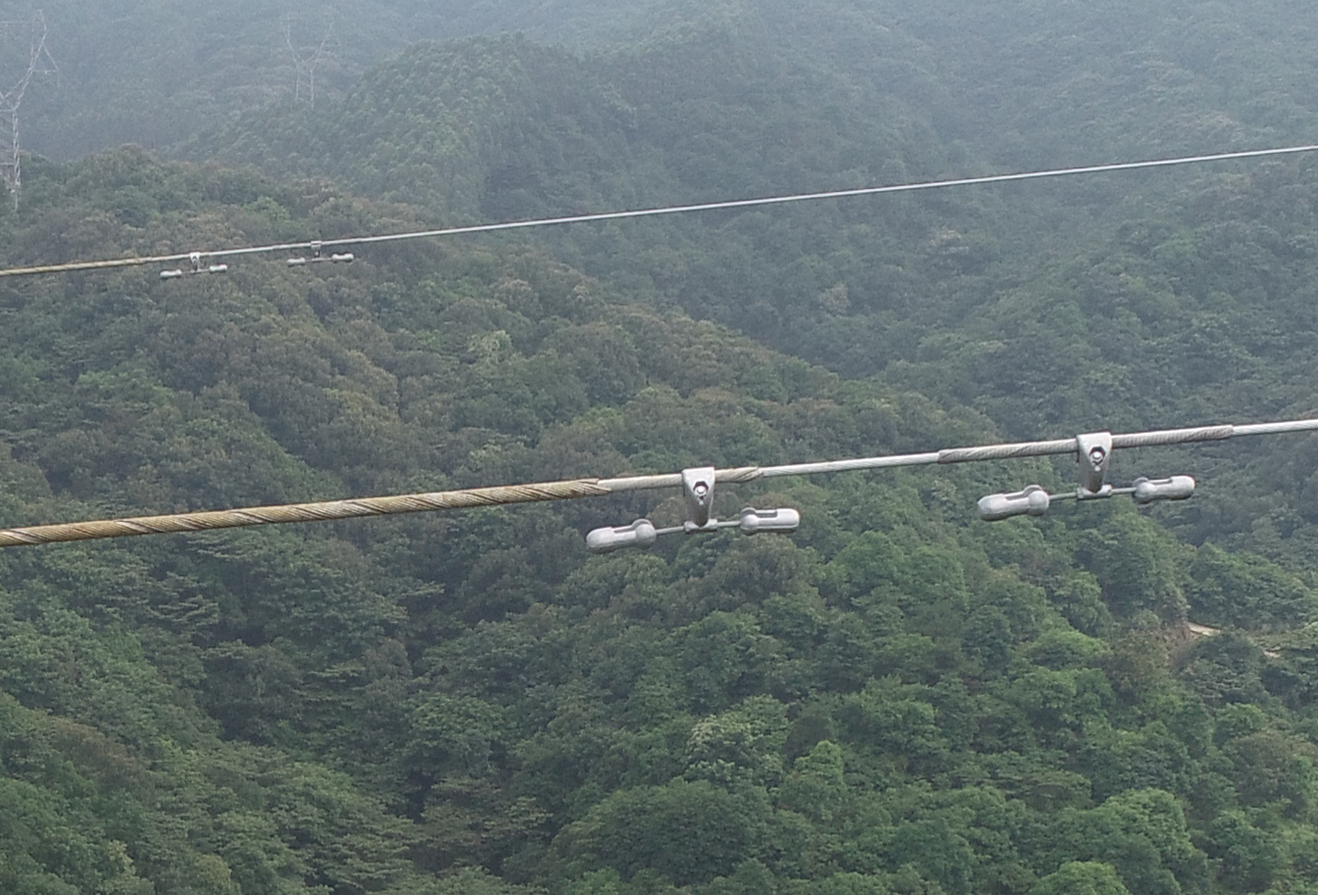damper: (973, 429, 1198, 521), (583, 462, 801, 556), (281, 236, 355, 268), (157, 248, 229, 279)
